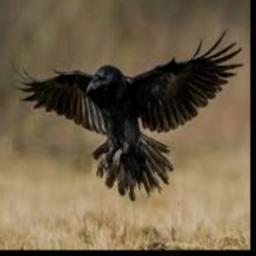Crow: (8, 28, 243, 199)
